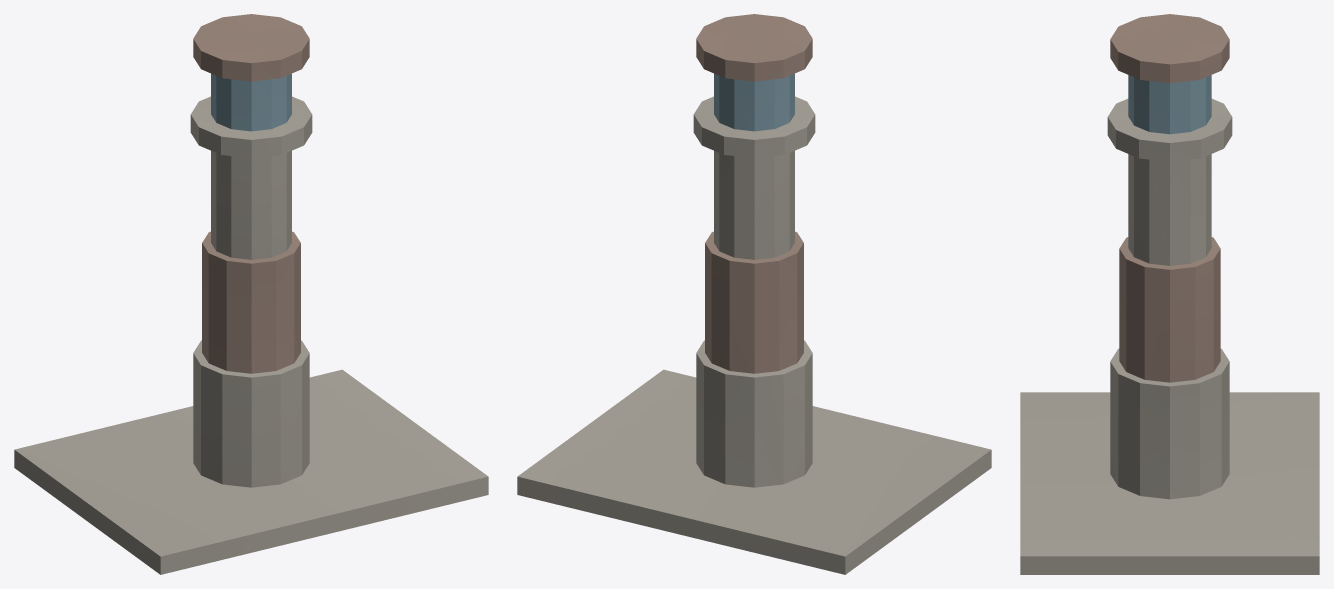
Rendered from lighthouse-06.glb.
3 renders of one model, left to right at view 1: azimuth 30°, elevation 25°; view 2: azimuth 150°, elevation 25°; view 3: azimuth 270°, elevation 25°, orthographic. The views are drawn at different scales.
Parts seen in each view (by area): view 1: world; view 2: world; view 3: world.
Boxes of the visible parts, x1=… form: world: x1=14, y1=14, x2=488, y2=574; world: x1=517, y1=14, x2=991, y2=574; world: x1=1020, y1=14, x2=1319, y2=574.
Bounding box in the file's own units: 1.5 × 1.93 × 1.15.
